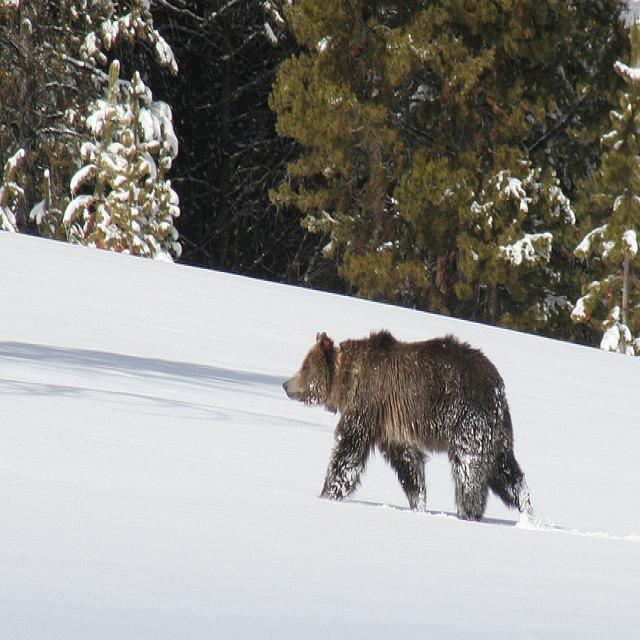Bear: (271, 320, 539, 522)
